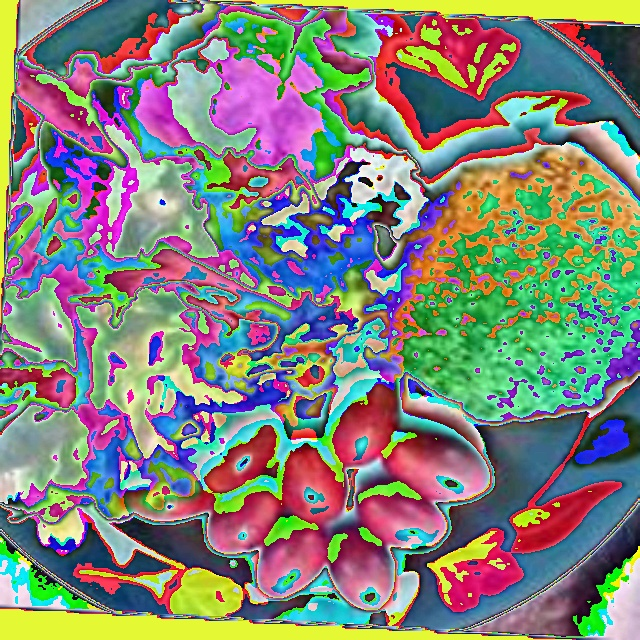background: (0, 3, 640, 614)
